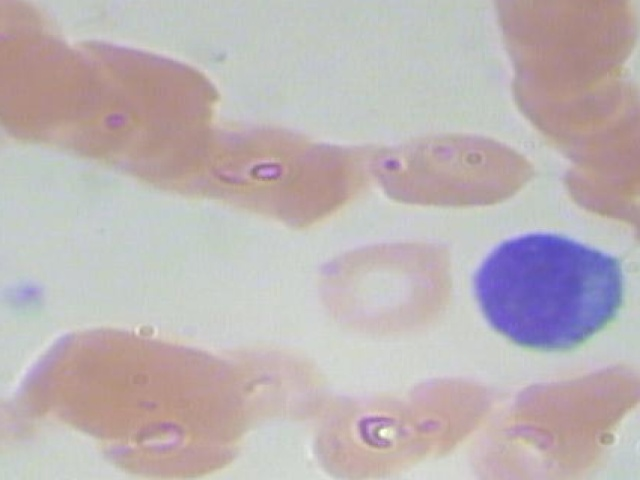RBC: (358, 121, 550, 209), (303, 237, 463, 338), (298, 390, 455, 480), (166, 120, 323, 210), (93, 398, 243, 480), (464, 407, 612, 480), (0, 27, 106, 117), (486, 0, 634, 59)
WBC: (468, 229, 640, 357)
